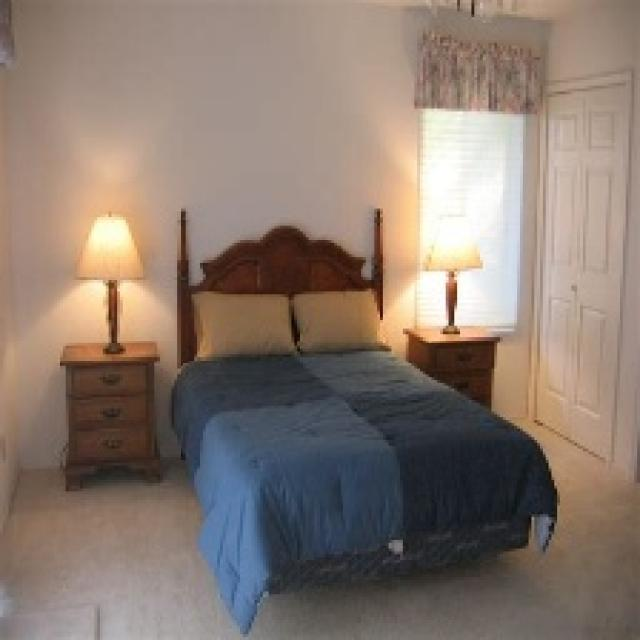Bed: (169, 206, 557, 634)
